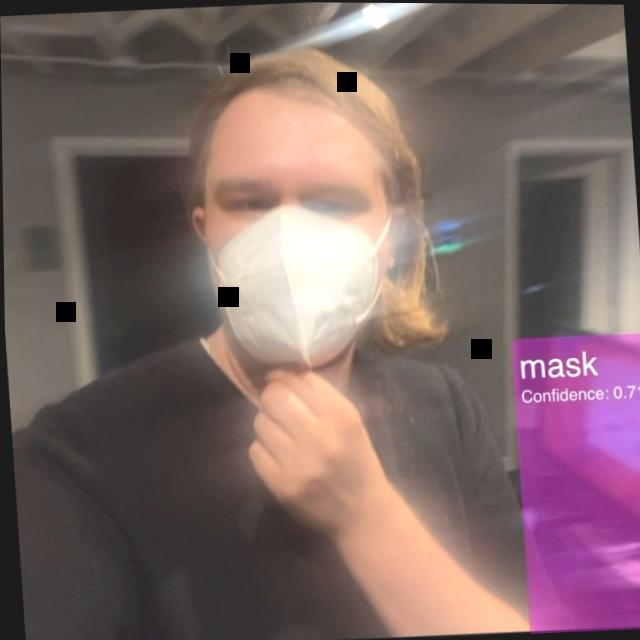Mask: (157, 17, 458, 356)
